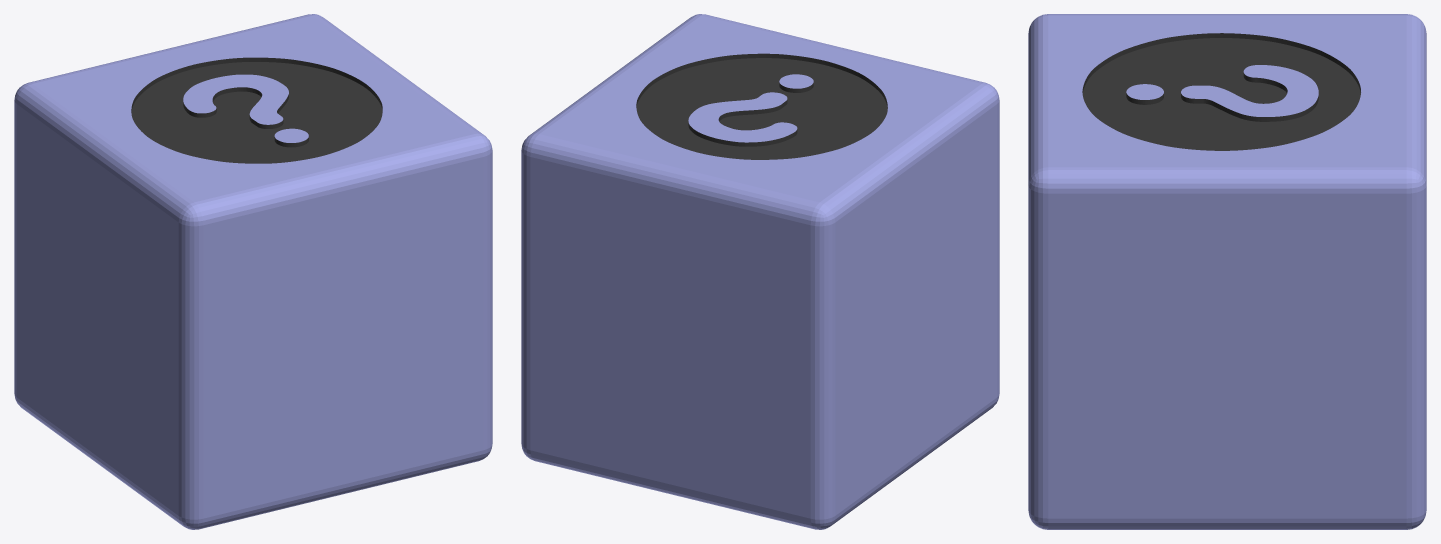
Rendered from randomDice.glb.
The picture shows the model from 3 angles, left to right: view 1: azimuth 30°, elevation 25°; view 2: azimuth 150°, elevation 25°; view 3: azimuth 270°, elevation 25°; orthographic projection. The views are drawn at different scales.
Visible parts, largest first — view 1: 立方体; view 2: 立方体; view 3: 立方体.
Part boxes in pixels (box(x1,y1,x2,y2)): 立方体: box(14, 14, 492, 529); 立方体: box(521, 14, 999, 529); 立方体: box(1028, 14, 1426, 529).
Size of the model in its own units: 1 by 1 by 1.
